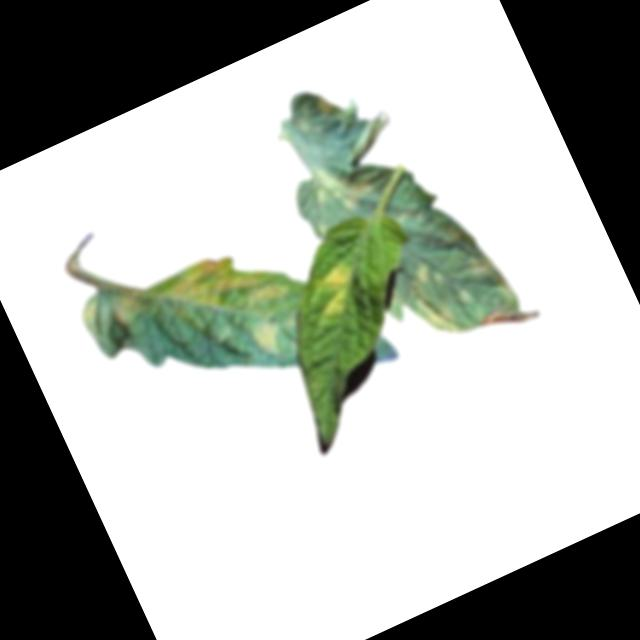Leaf_Mold: (156, 231, 296, 348), (306, 155, 376, 221), (307, 260, 368, 324), (408, 278, 463, 347), (107, 283, 155, 332), (250, 316, 293, 366), (465, 246, 503, 280), (74, 298, 106, 333), (415, 261, 438, 284)
